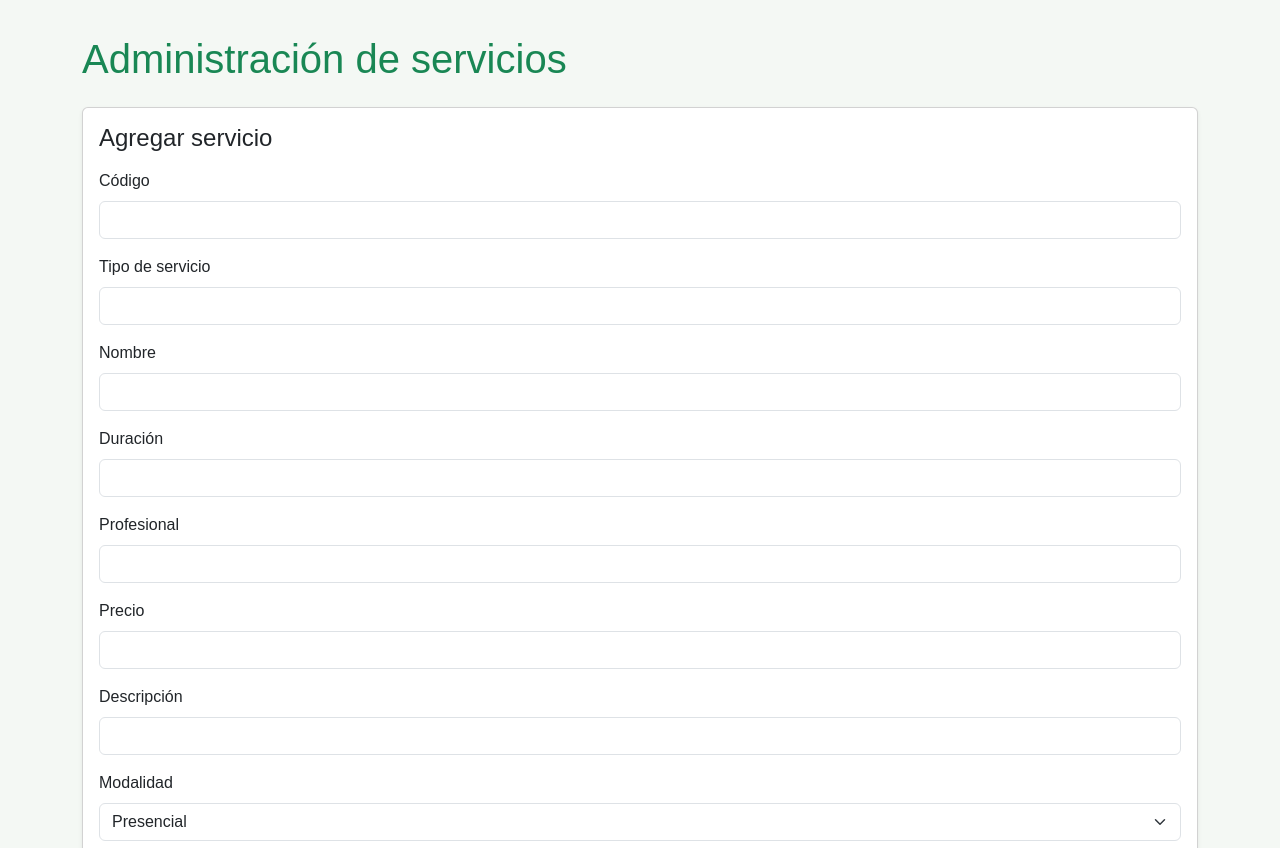
Test: Administración de servicios de NutriVida › agrega correctamente un servicio nuevo
This screenshot has width=1280, height=848.
Type "NUT002" into the 1st field named "codigo".
click(640, 220); type("NUT002")  # box x1=99 y1=201 x2=1181 y2=239
Type "Consulta" into the field below "Tipo de servicio".
click(640, 306); type("Consulta")  # box x1=99 y1=287 x2=1181 y2=325
Type "Control nutricional" into the 3rd field named "nombre".
click(640, 392); type("Control nutricional")  # box x1=99 y1=373 x2=1181 y2=411
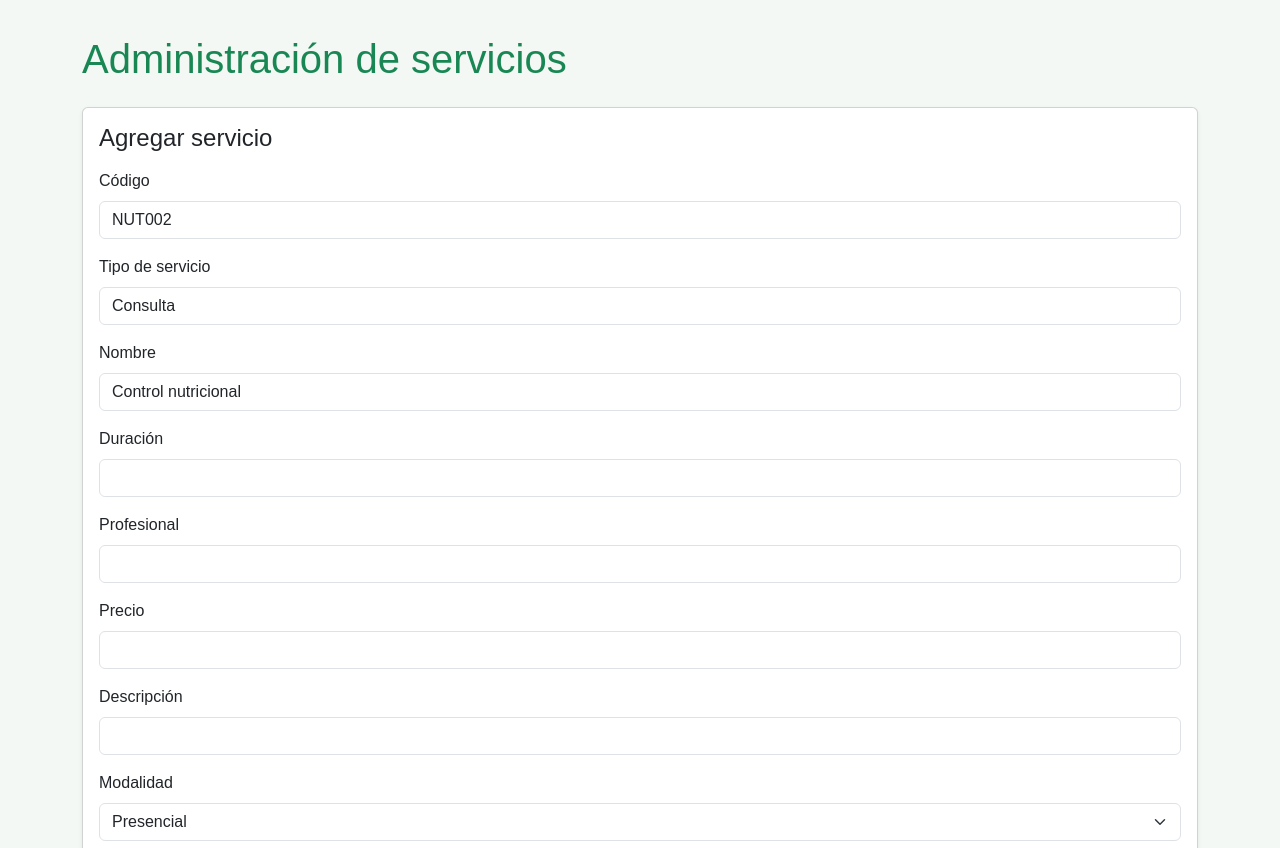
Type "30 minutos" into the field below "Duración".
click(640, 478); type("30 minutos")  # box x1=99 y1=459 x2=1181 y2=497
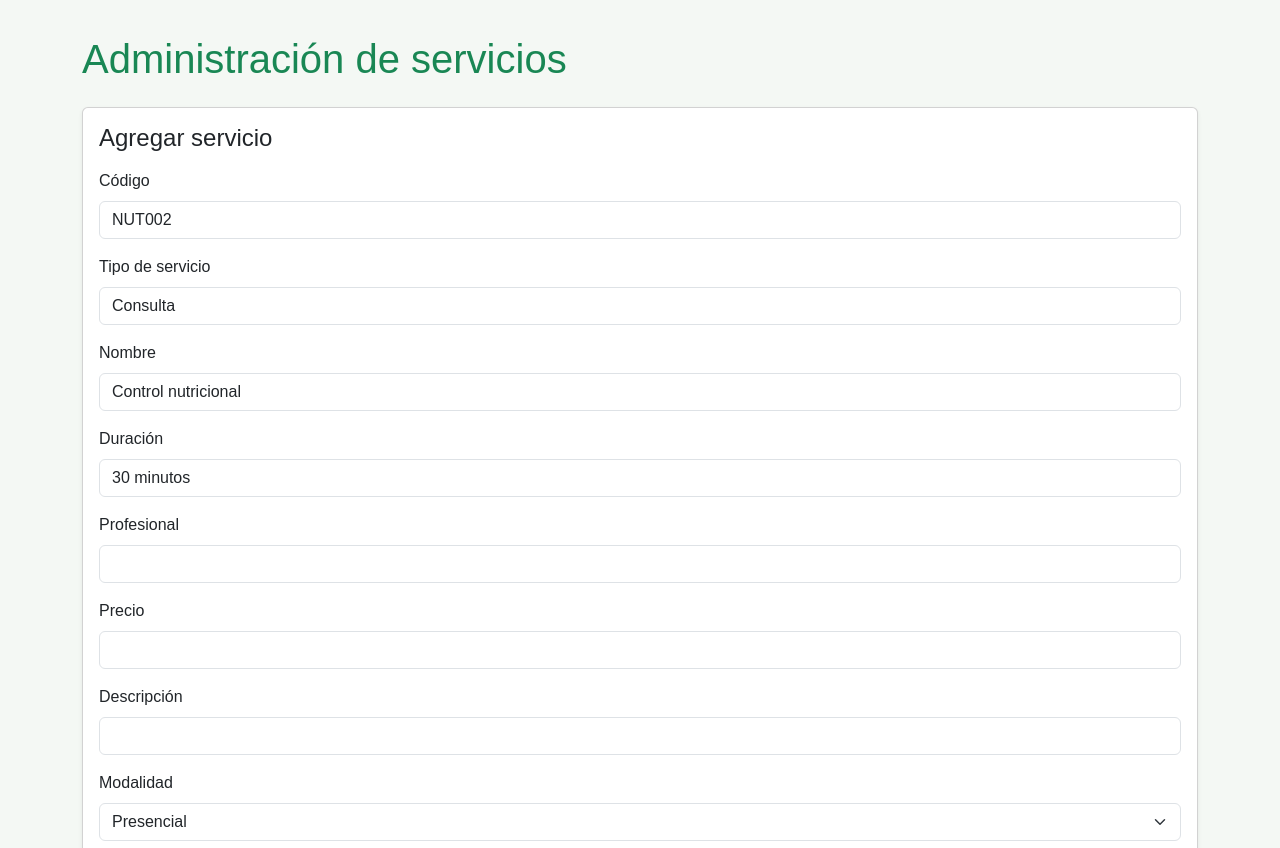
Type "Nutricionista 2" into the field below "Profesional".
click(640, 564); type("Nutricionista 2")  # box x1=99 y1=545 x2=1181 y2=583
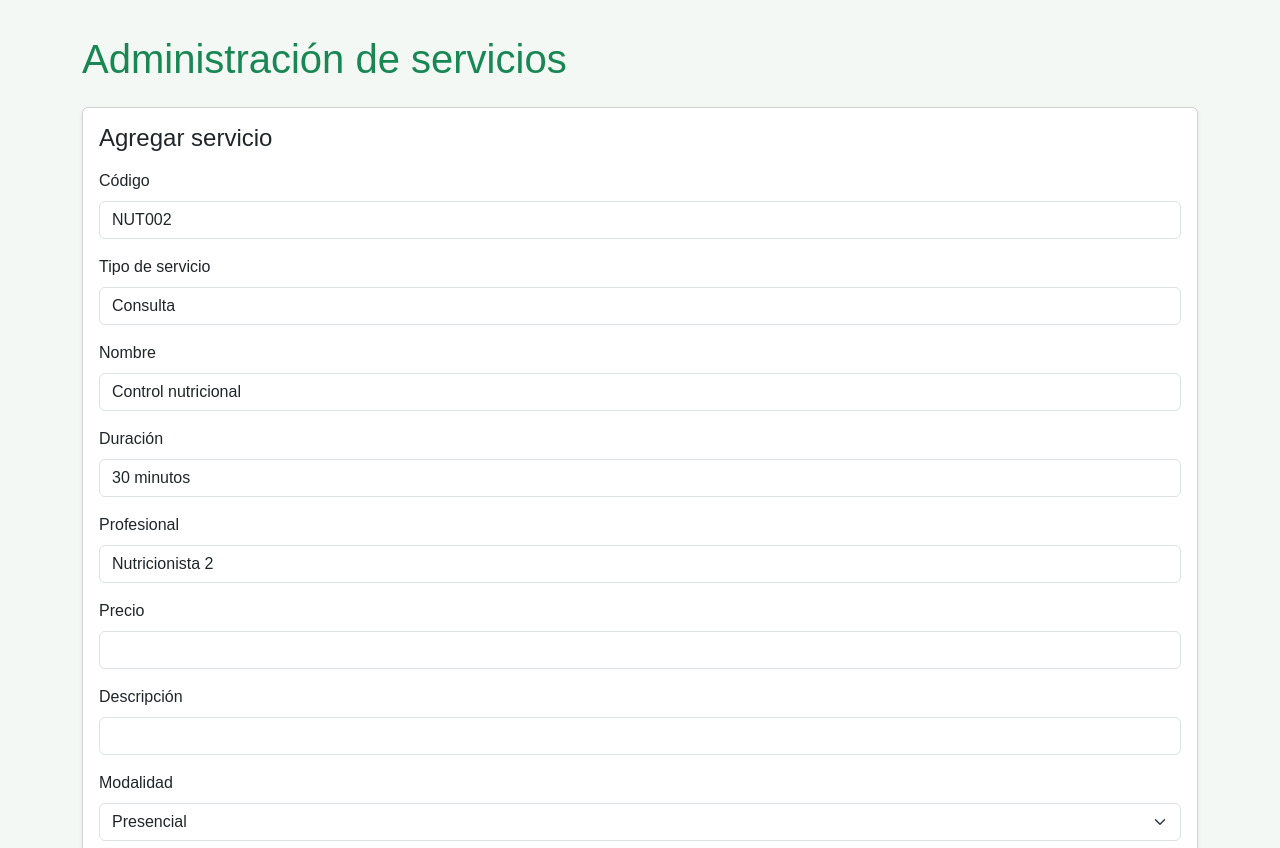
Type "18000" into the number field.
click(640, 650); type("18000")  # box x1=99 y1=631 x2=1181 y2=669
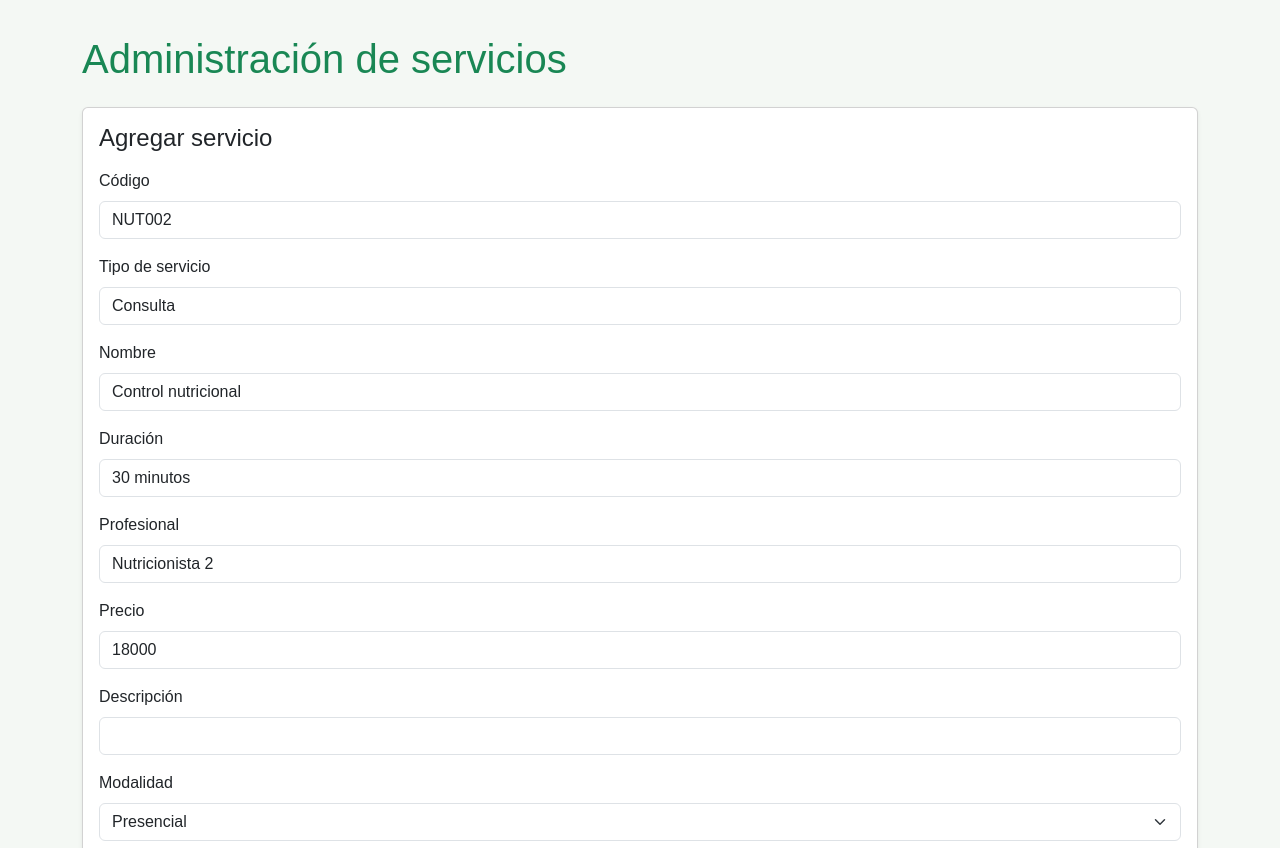
Type "Control de alimentación" into the field below "Descripción".
click(640, 736); type("Control de alimentación")  # box x1=99 y1=717 x2=1181 y2=755
(page scrolled)
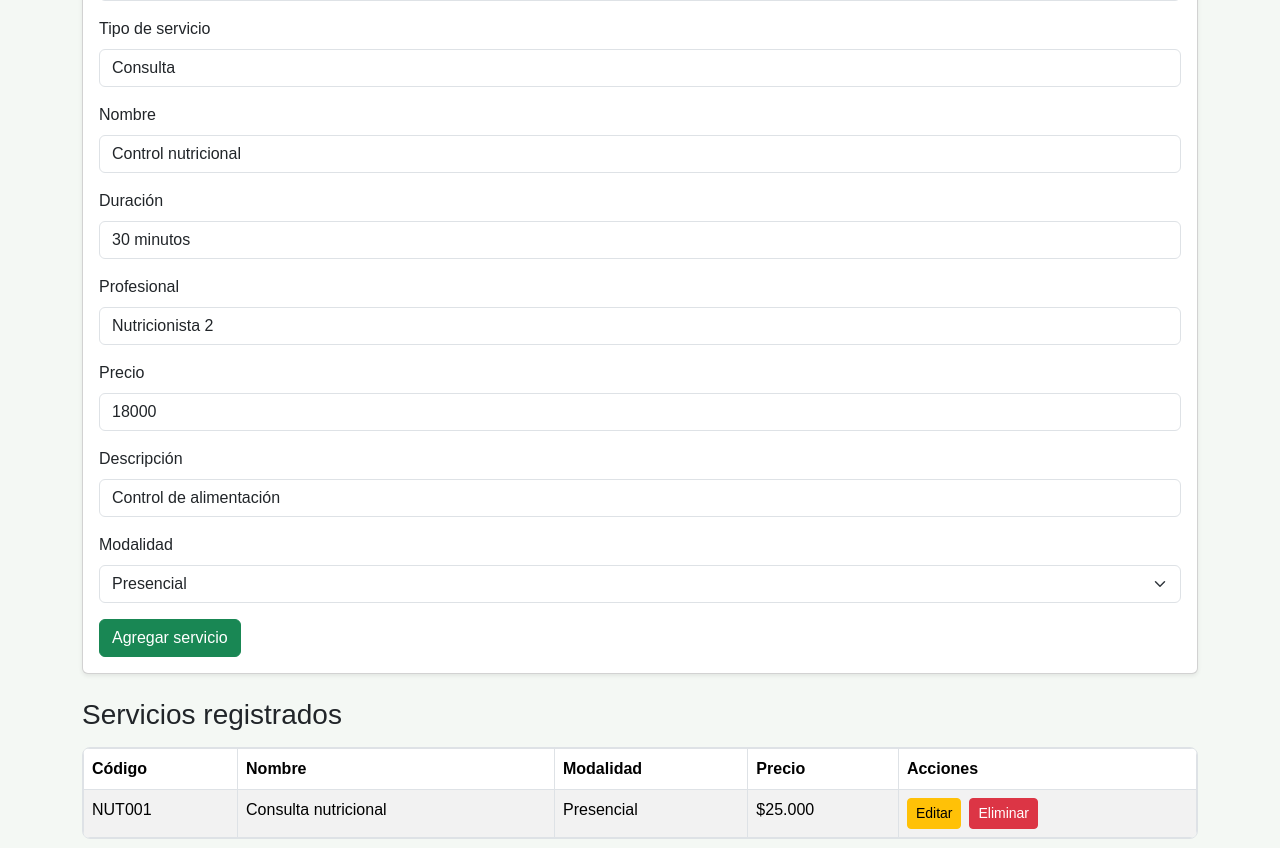
Click the button "Agregar servicio".
click(170, 638)  # box x1=99 y1=619 x2=241 y2=657
(page scrolled)
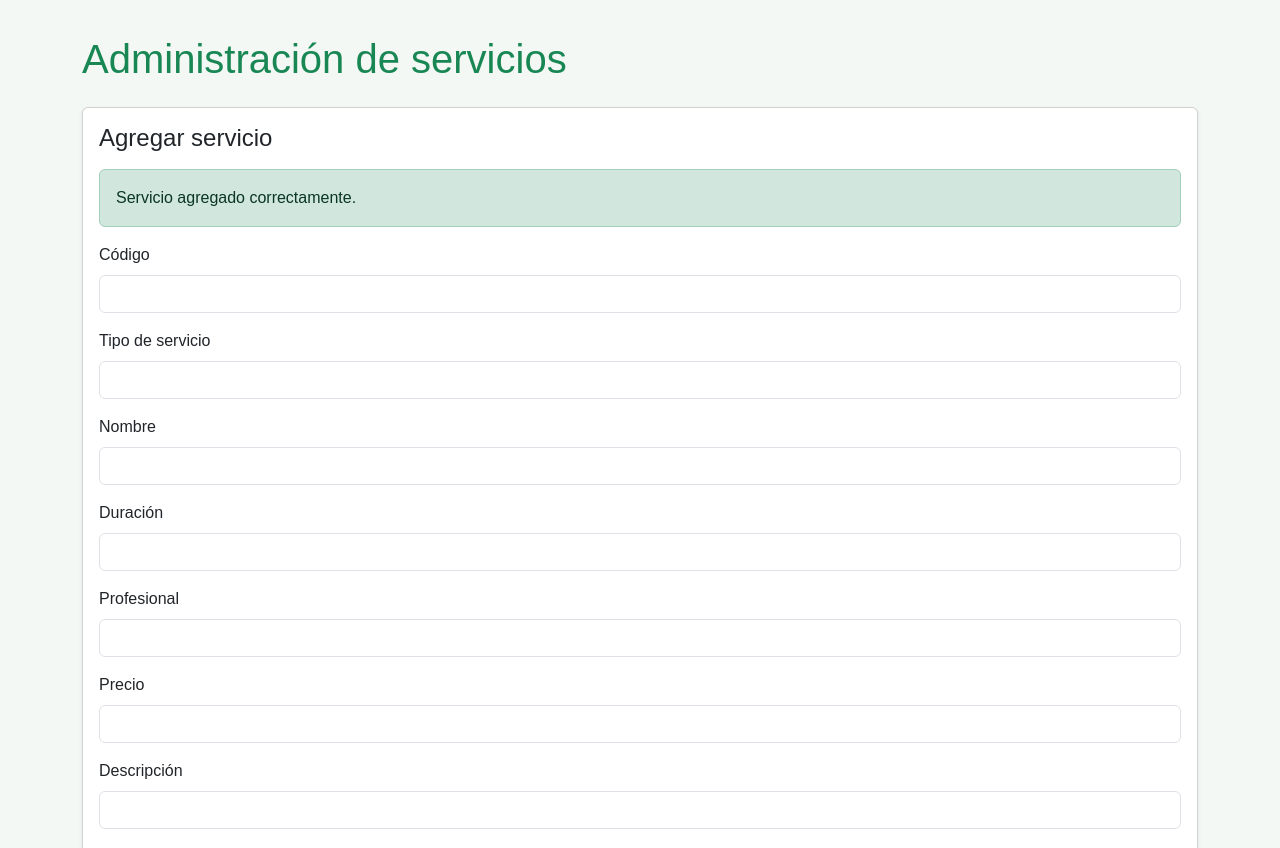
Check: the text "Servicio agregado correctamente." is shown, box x1=99 y1=169 x2=1181 y2=227
